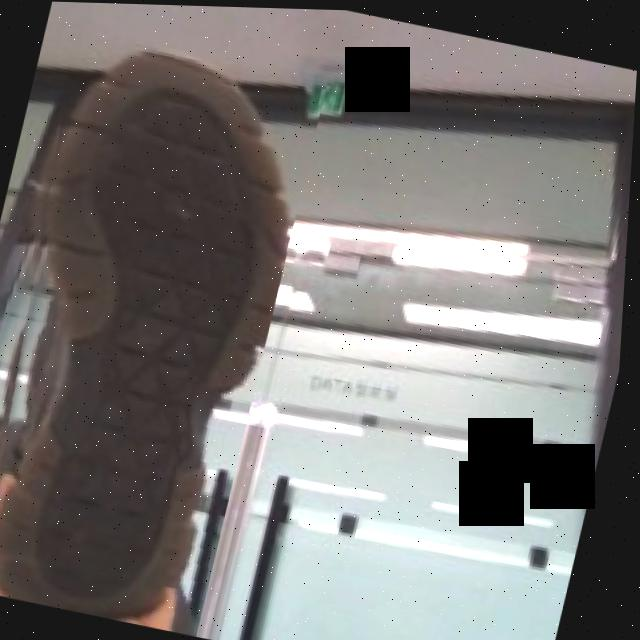shoe: (0, 21, 331, 637)
